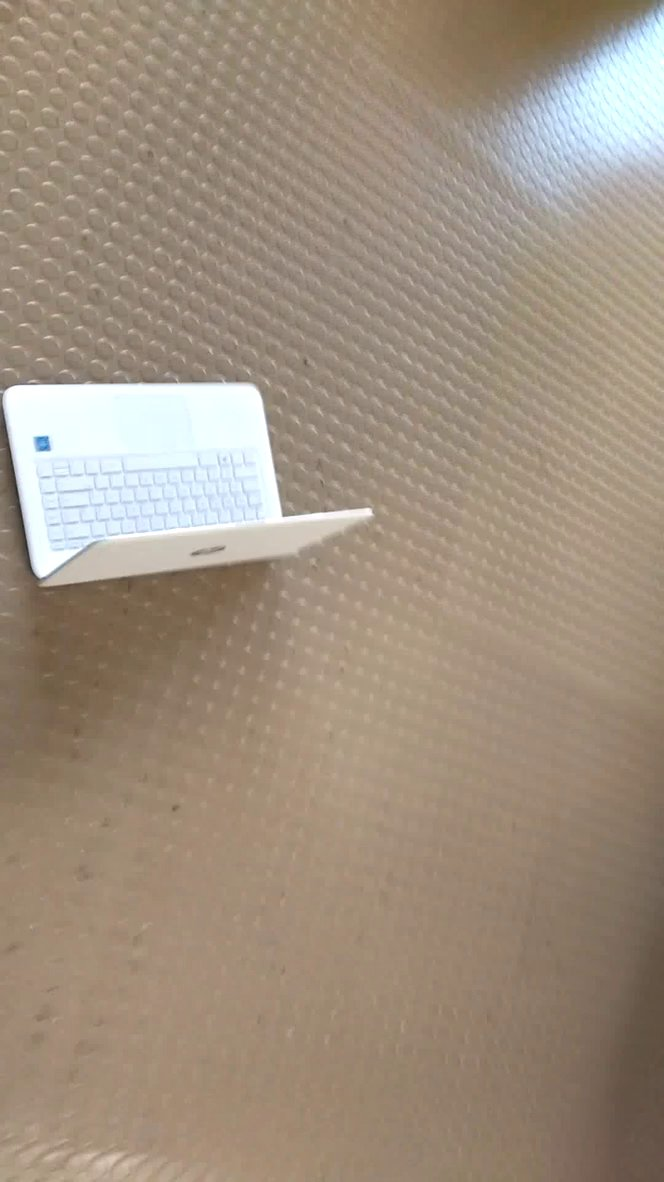laptop: (1, 364, 382, 597)
